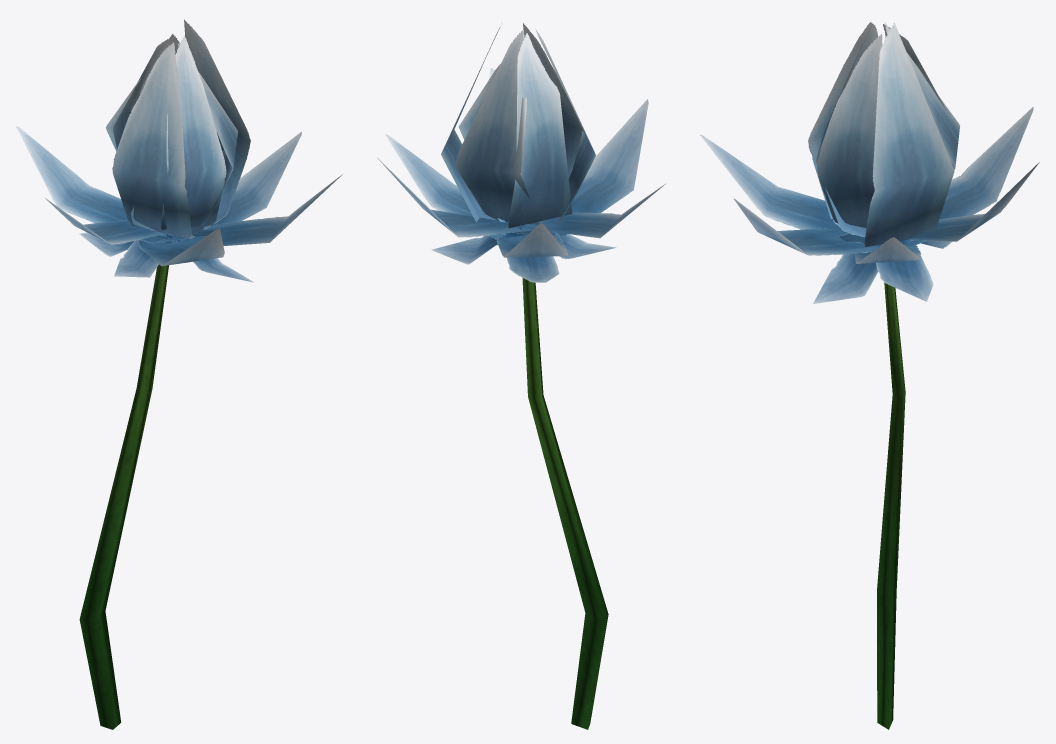
The model's file is flowers_BlueTulip_1.glb.
The picture shows the model from 3 angles, left to right: view 1: azimuth 30°, elevation 25°; view 2: azimuth 150°, elevation 25°; view 3: azimuth 270°, elevation 25°; orthographic projection. The views are drawn at different scales.
Parts seen in each view (by area): view 1: flowers_BlueTulip_1; view 2: flowers_BlueTulip_1; view 3: flowers_BlueTulip_1.
Part boxes in pixels (x1,y1,x2,y2): flowers_BlueTulip_1: (16, 19, 342, 729); flowers_BlueTulip_1: (377, 23, 665, 729); flowers_BlueTulip_1: (700, 22, 1039, 729).
Size of the model in its own units: 0.4608 by 1.12 by 0.4652.
Materials: 2 (2 with a texture image).
